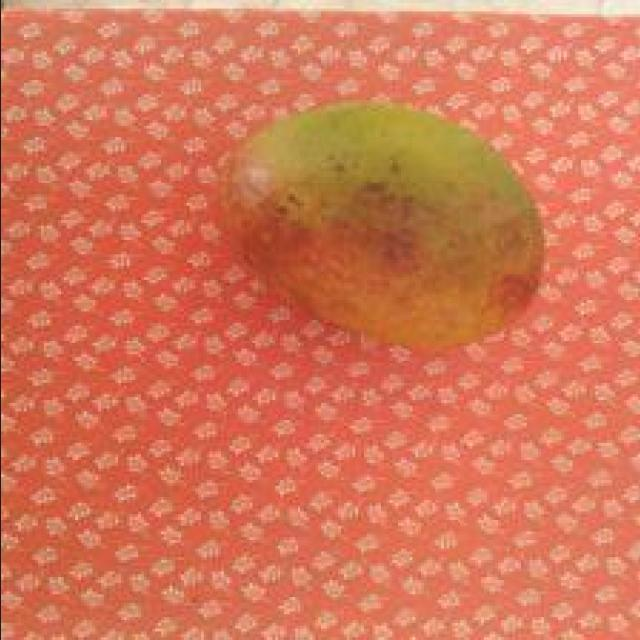mango: (228, 98, 548, 352)
